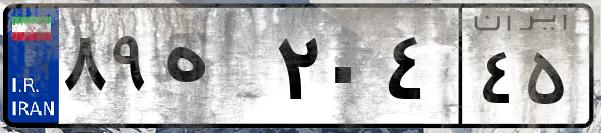0: (330, 28, 385, 110)
2: (270, 28, 330, 110)
4: (385, 28, 445, 110), (475, 38, 525, 113)
5: (525, 38, 570, 115)
8: (57, 26, 110, 100)
9: (110, 28, 158, 98)
ه: (158, 20, 270, 120)
